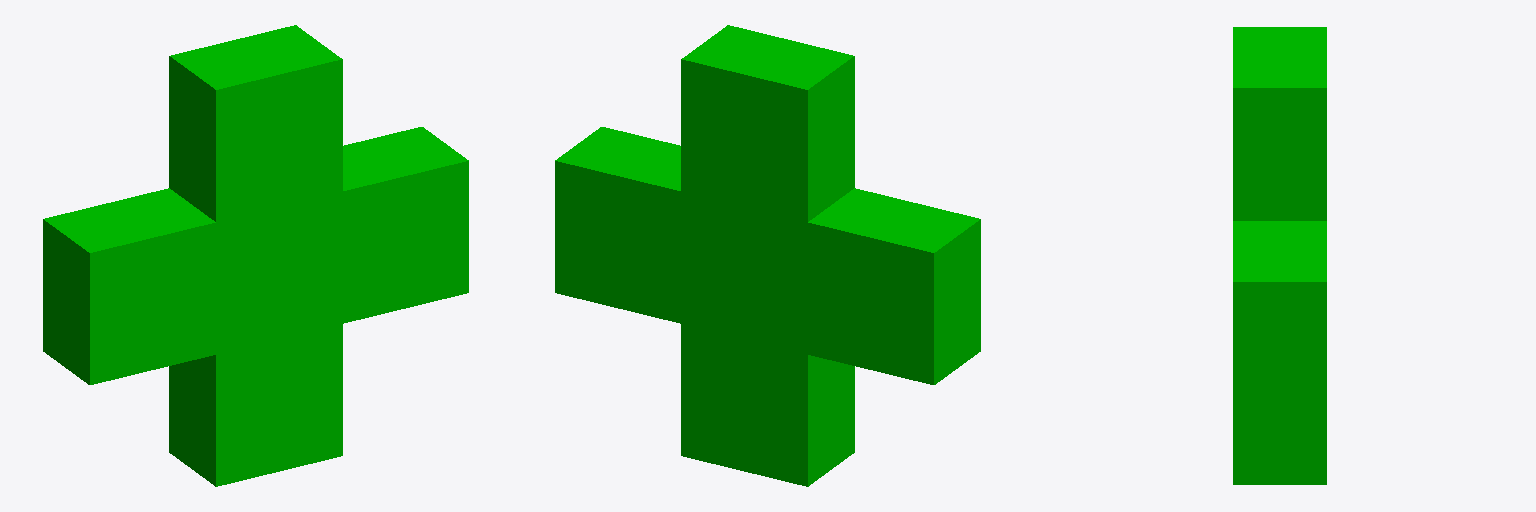
File: healing_icon.obj
The picture shows the model from 3 angles: view 1: azimuth 30°, elevation 25°; view 2: azimuth 150°, elevation 25°; view 3: azimuth 270°, elevation 25°; orthographic projection.
Visible parts, largest first — view 1: Cube_Cube.001; view 2: Cube_Cube.001; view 3: Cube_Cube.001.
Boxes of the visible parts, x1,y1,x2,y2 form: Cube_Cube.001: [43, 25, 468, 486]; Cube_Cube.001: [555, 25, 980, 486]; Cube_Cube.001: [1233, 27, 1326, 484].
Size of the model in its own units: 2 by 2 by 0.4276.